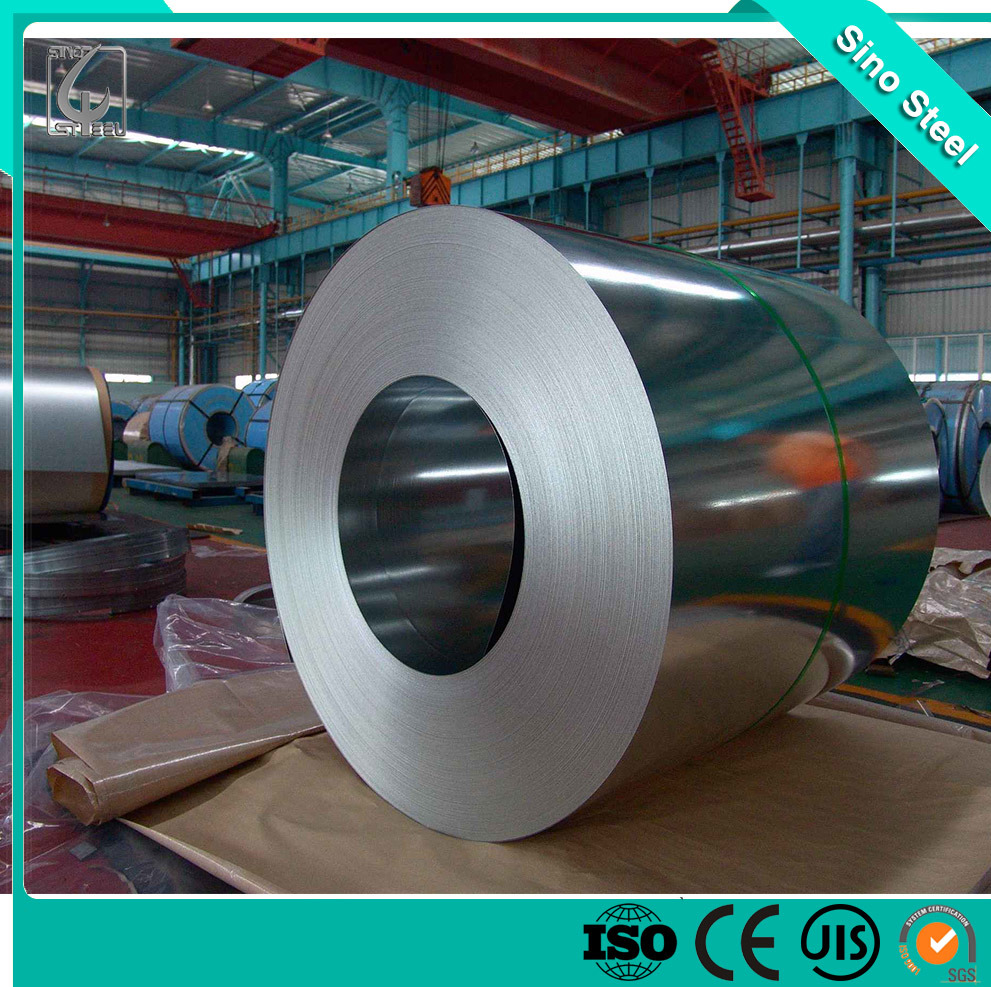steel-coil: (249, 189, 972, 835), (3, 314, 251, 531), (949, 353, 989, 543)
